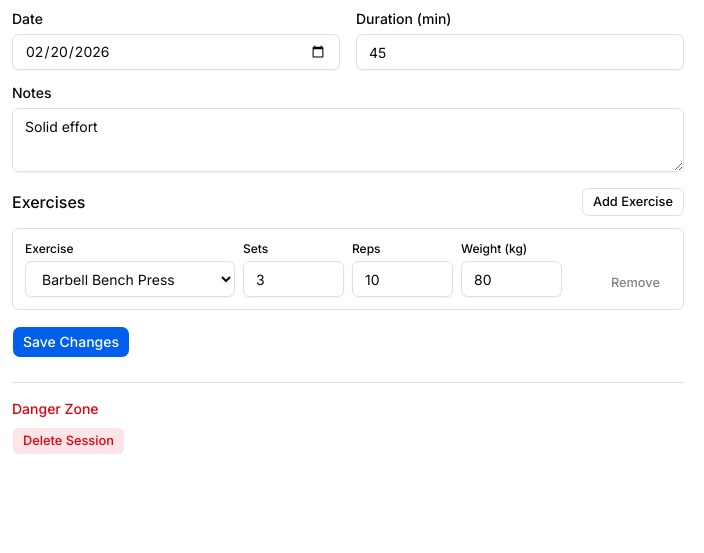
Scenario: EditWorkoutSessionForm › editWorkoutSessionForm_durationTooHigh_showsDurationValidationErrorAndDoesNotCallUpdate
This screenshot has width=704, height=553.
Replace the text in the field labelled "Duration (min)" with "181" at [520, 52], box 356,34 -> 684,70
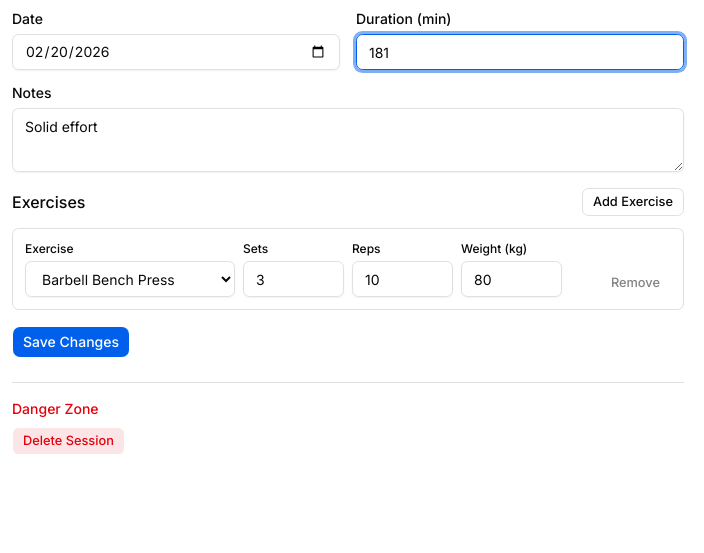
Click the button "Save Changes" at [71, 342], box 12,326 -> 130,358
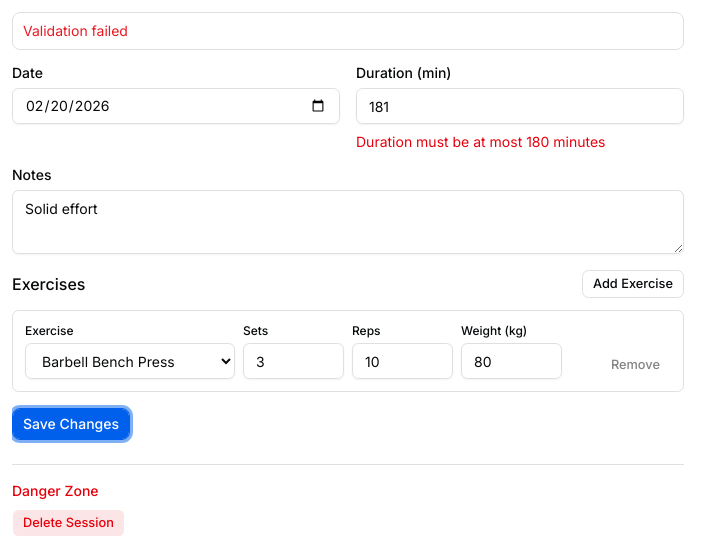
Expected: the text "Duration must be at most 180 minutes" is shown, 356,133 -> 606,150
